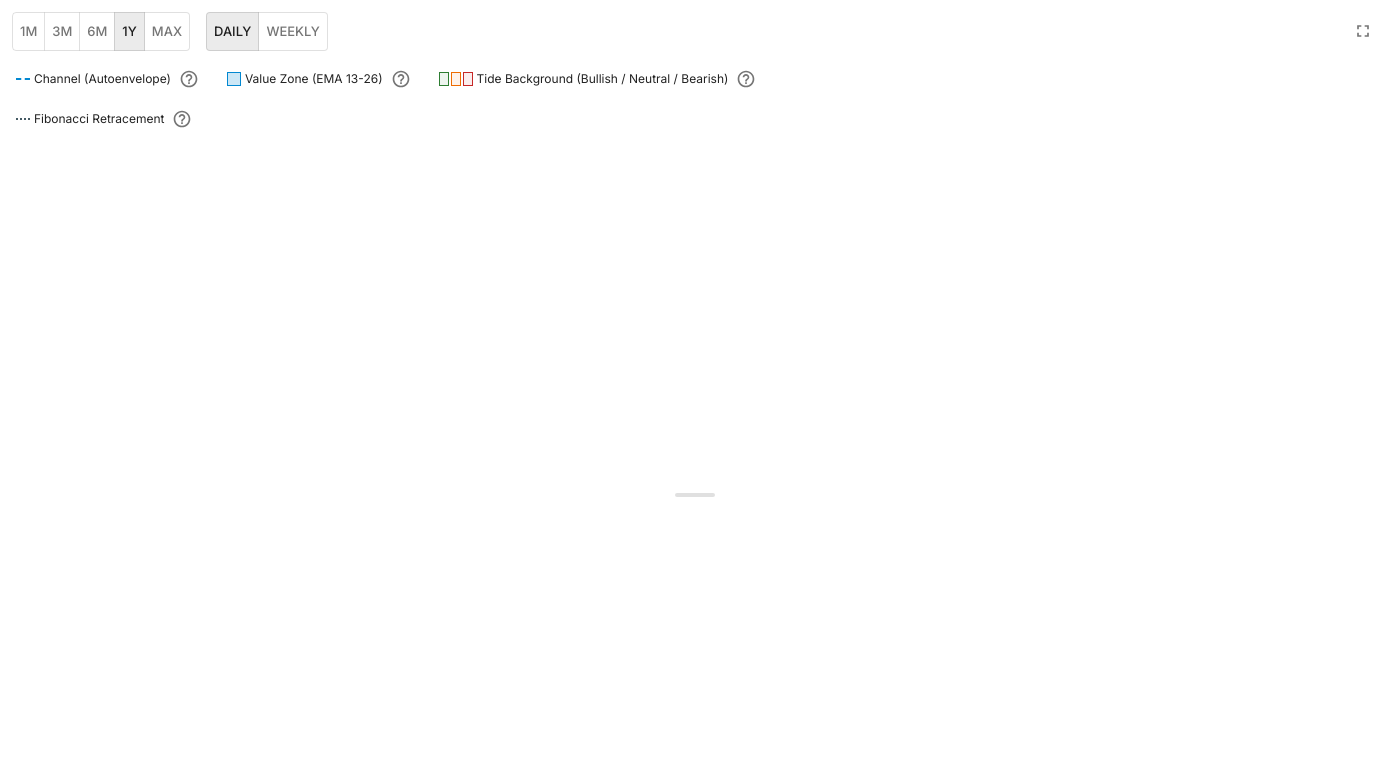
Test: PriceChart › Fibonacci auto-retracement levels (frontend-fibonacci-auto-levels) › clears the price lines and shows the "fewer than 2 bars visible" legend caveat when the visible range narrows to a single bar
The width and height of the screenshot is (1390, 780).
Click the button named "Fibonacci Retracement help".
click(182, 119)  # box [172,109,192,129]
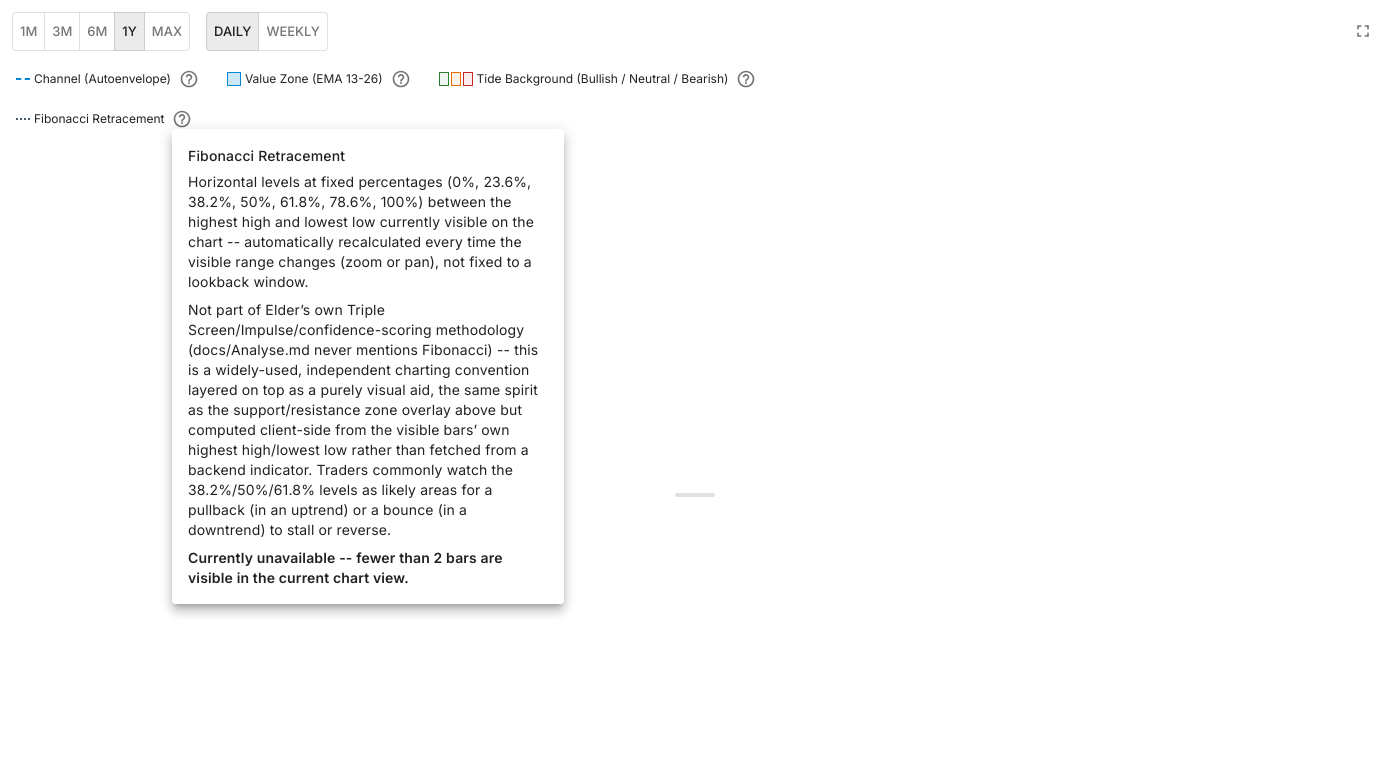
Expected: the text "fewer than 2 bars are visible in the current chart view" is shown, [188,549,503,586]
